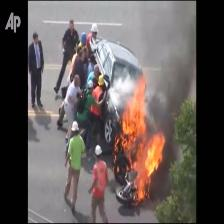fire: (115, 76, 164, 201)
